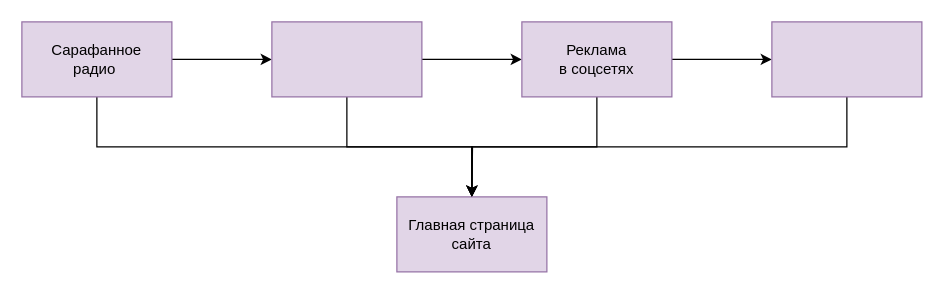
The diagram is 944 pixels wide and 294 high, and some of its shapes have lost their labels. Each missing label, with the centre of its shape:
"Реклама в поисковиках" belongs at point (346, 59).
"Робот-coll центр" belongs at point (846, 59).
